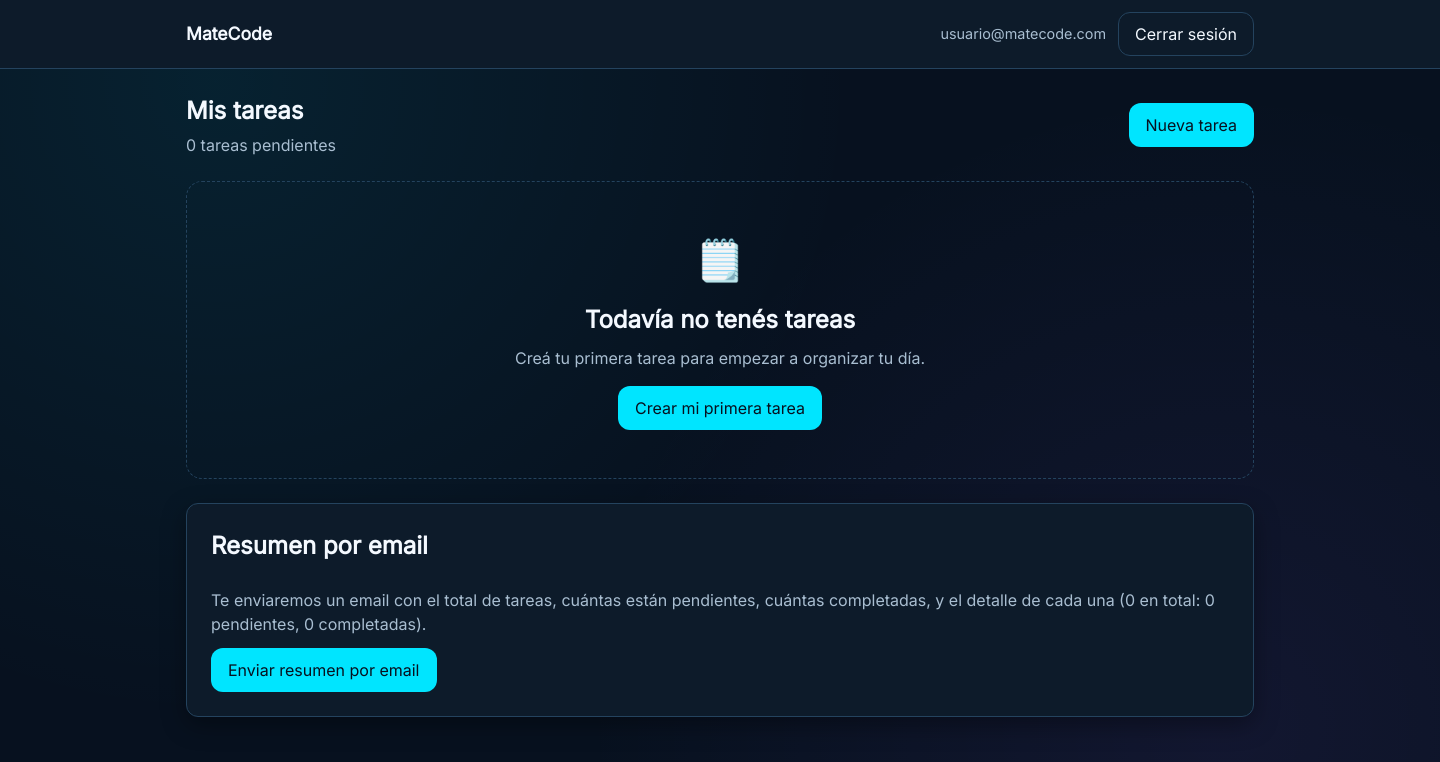
Test case: TasksPage › muestra un error comprensible y mantiene el formulario abierto si falla la edición
Expected: the heading "Todavía no tenés tareas" is shown, x1=585 y1=305 x2=855 y2=334
Click the button "Nueva tarea" at [1191, 125], box x1=1128 y1=103 x2=1254 y2=147
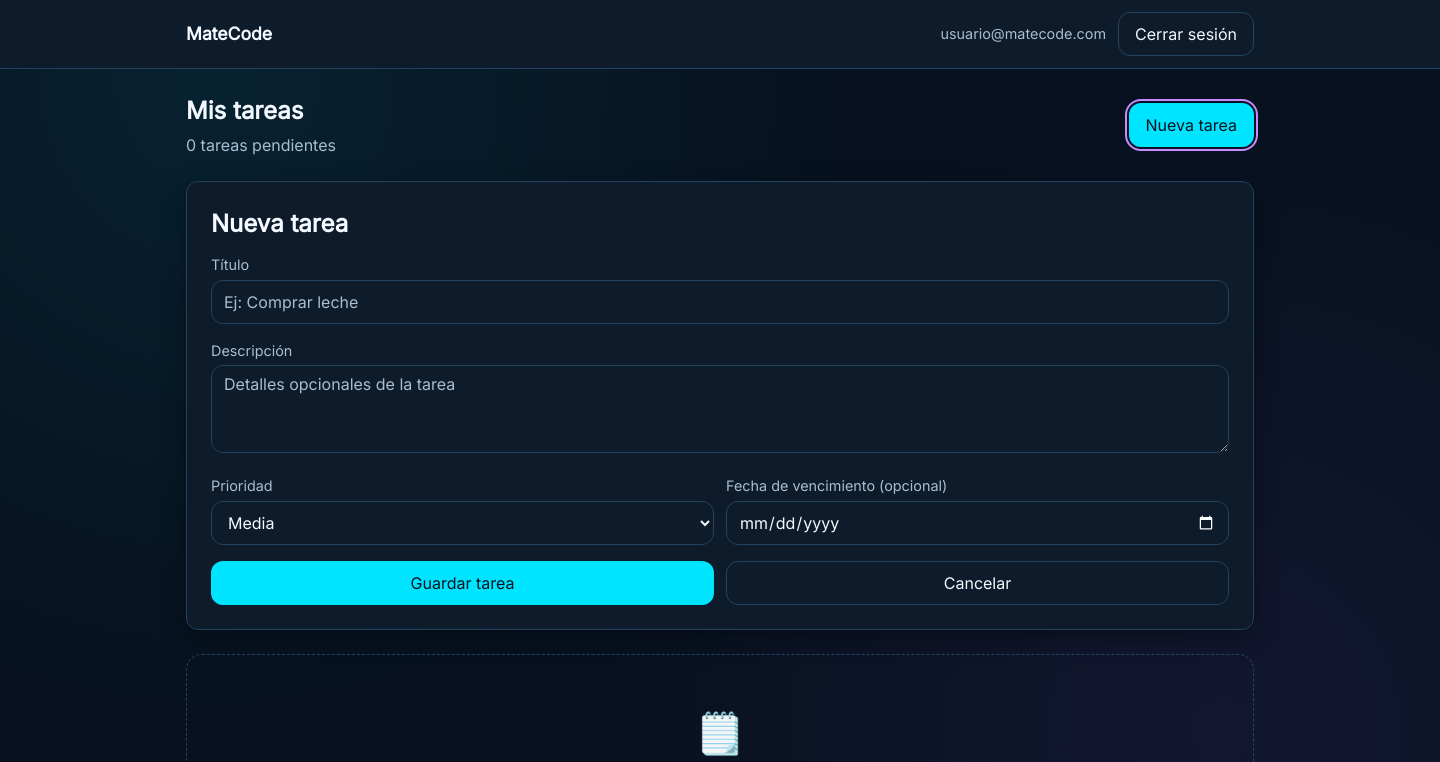
Type "Comprar leche" into the field labelled "Título" at [720, 302], box x1=211 y1=280 x2=1229 y2=324
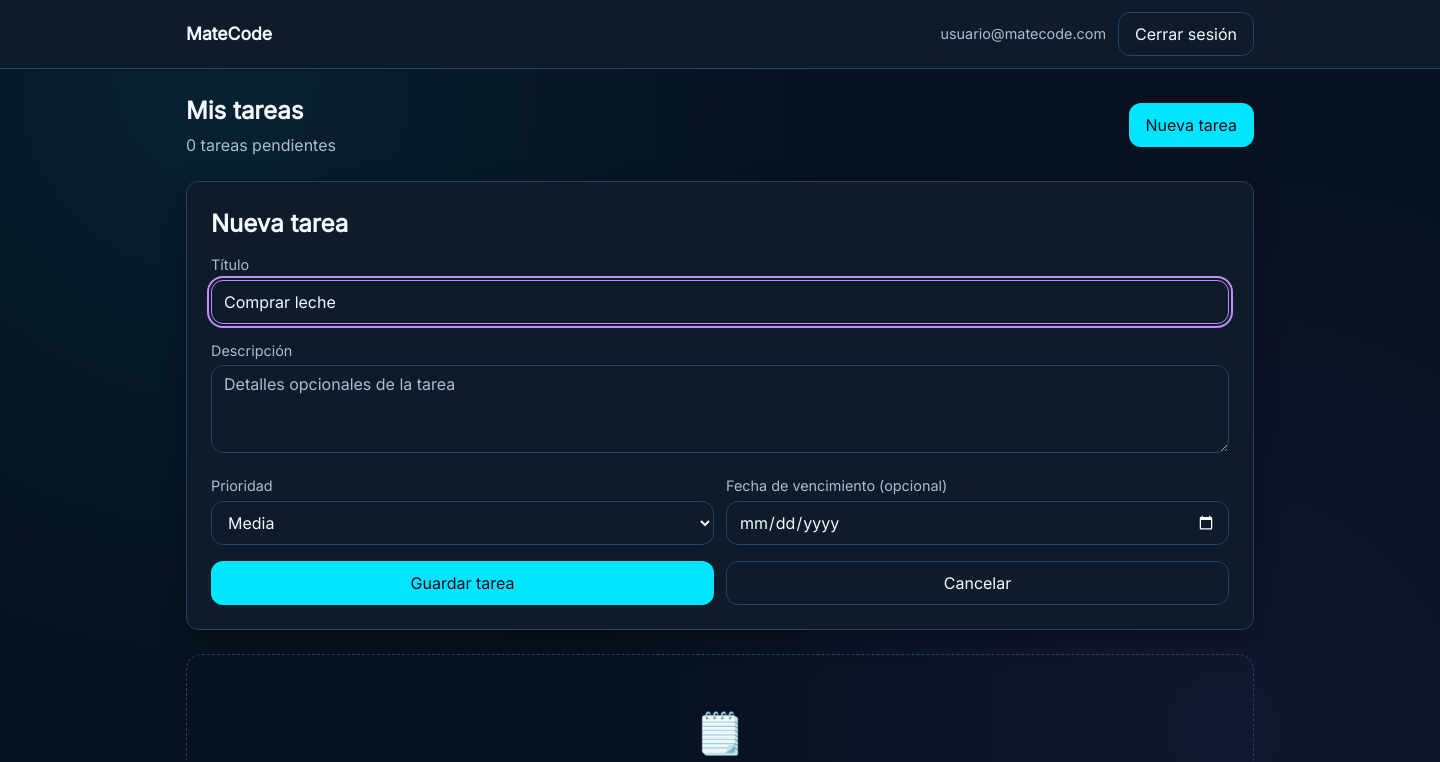
Click the button "Guardar tarea" at [462, 583], box x1=211 y1=561 x2=714 y2=605
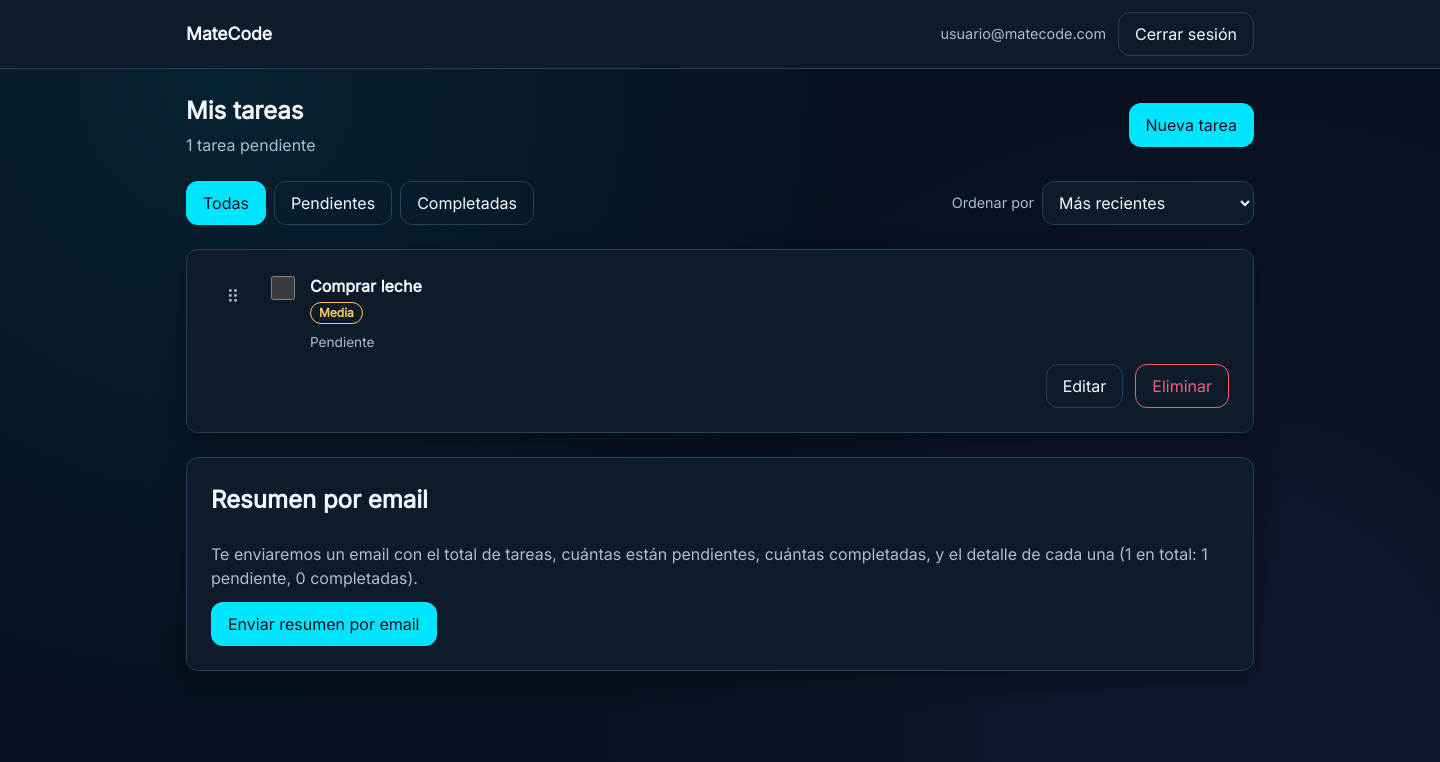
Expected: the text "Comprar leche" is shown, x1=310 y1=276 x2=422 y2=296
Click the button "Editar" at [1084, 386], box x1=1046 y1=364 x2=1123 y2=408
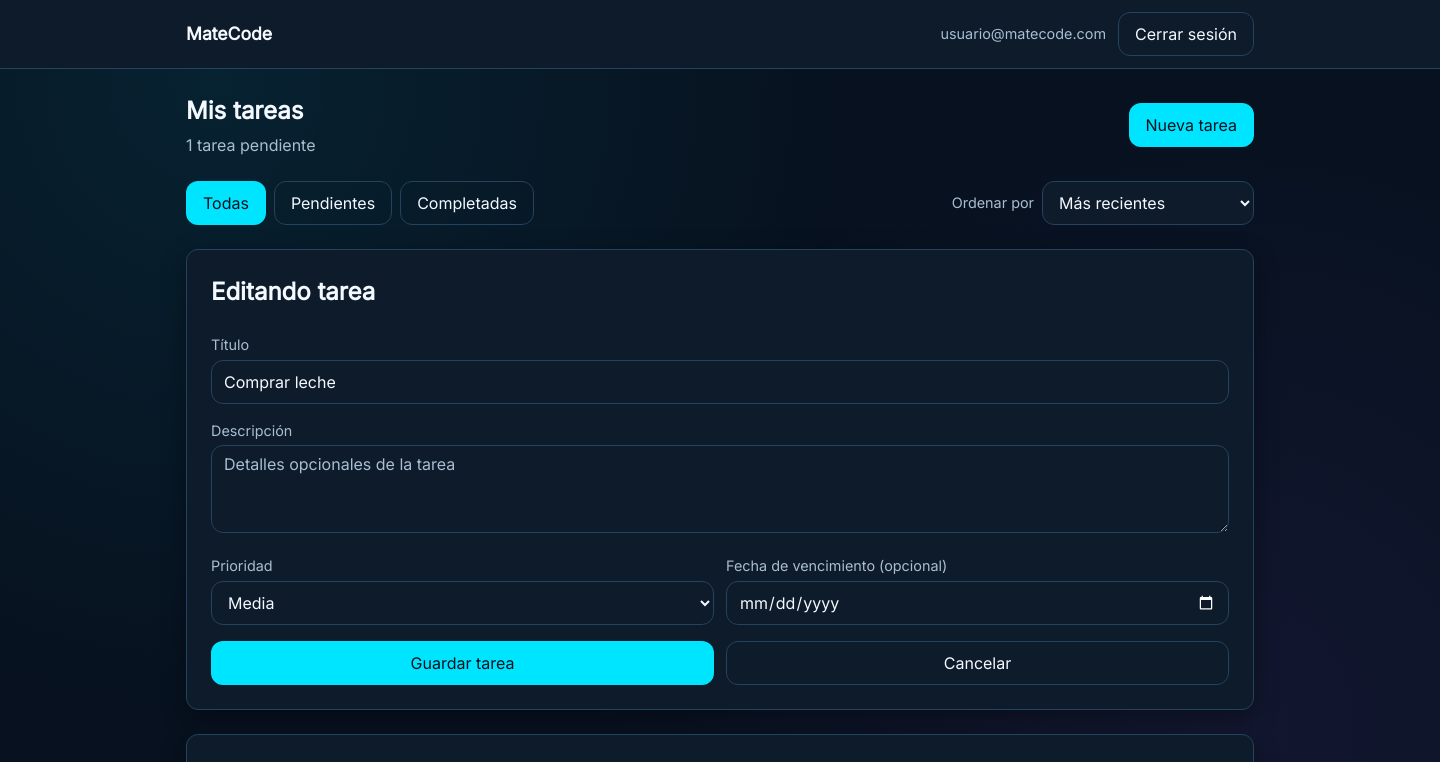
Click the button "Guardar tarea" at [462, 663], box x1=211 y1=641 x2=714 y2=685
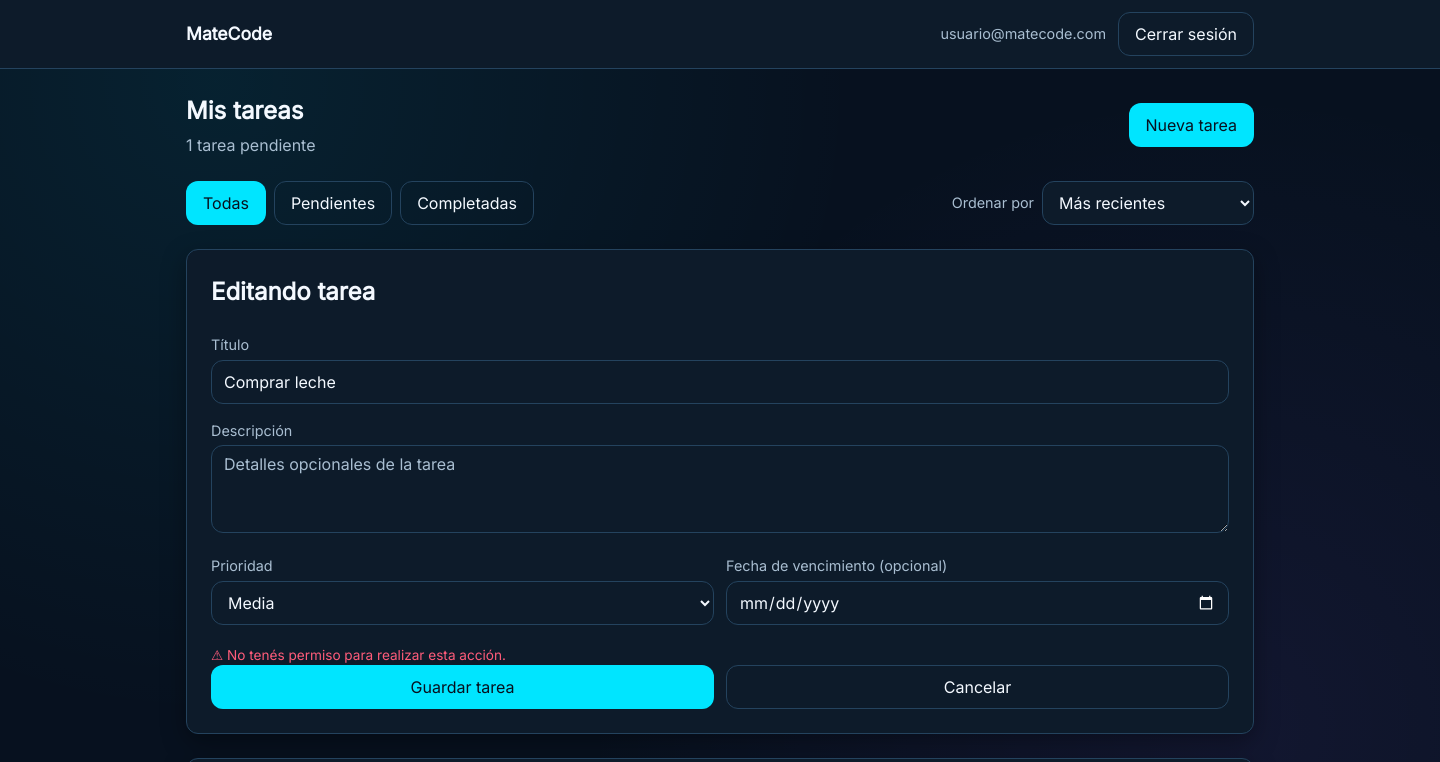
Expected: the field labelled "Título" holds "Comprar leche", x1=211 y1=360 x2=1229 y2=404
Expected: the text "⚠ No tenés permiso para realizar esta acción." is shown, x1=211 y1=647 x2=506 y2=663
